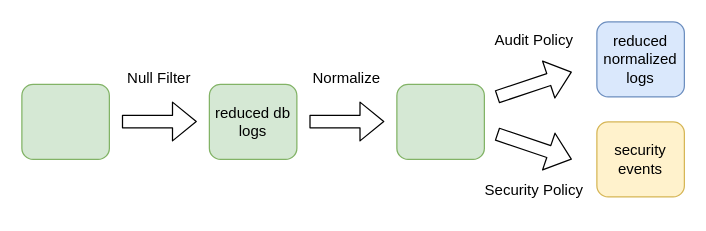
Image size: 706x231. Some labels were removed from this diagram. Each missing label, with the centre of its shape:
"db logs" belongs at [65,121].
"normalized logs" belongs at [440,121].
